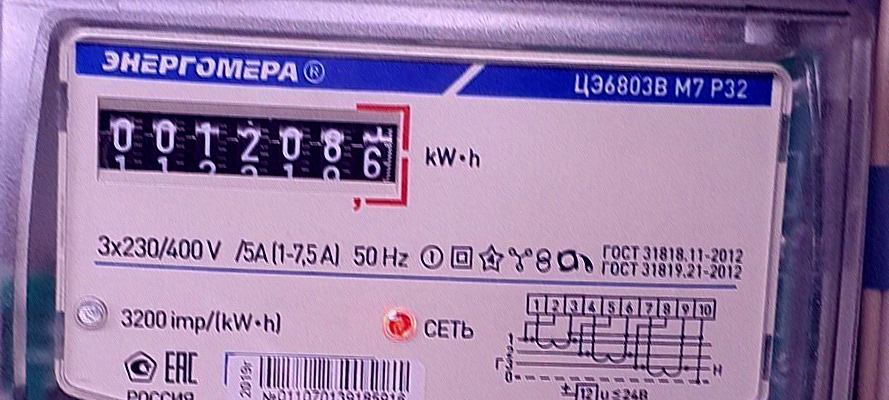0: (108, 112, 135, 152), (152, 116, 177, 153), (277, 123, 302, 159)
1: (194, 118, 216, 157)
2: (236, 124, 263, 162)
6: (359, 142, 383, 178)
8: (318, 125, 344, 162)
screen: (87, 88, 419, 210)
